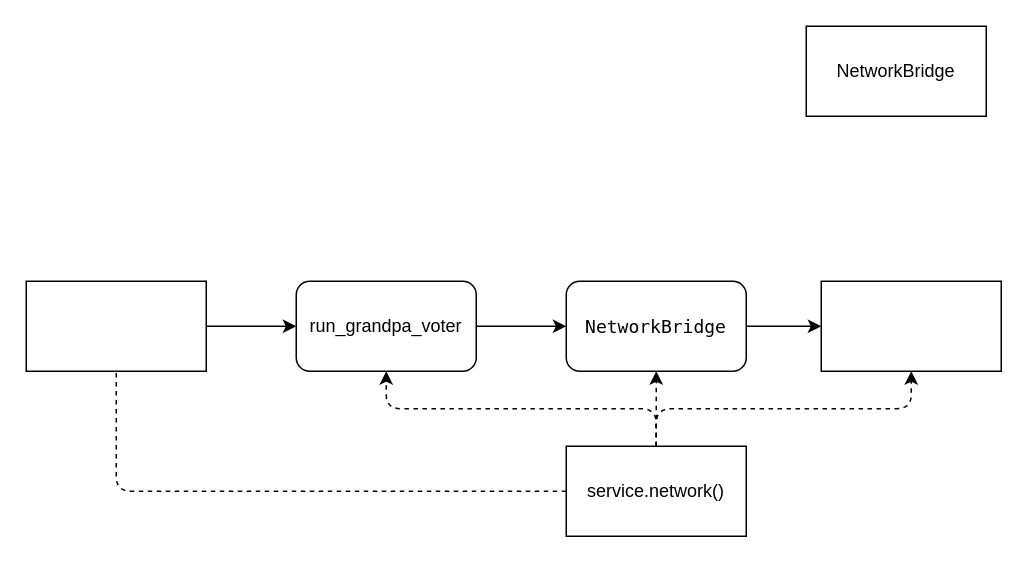
The diagram is 1028 pixels wide and 563 high, and some of its shapes have lost their labels. The box of each missing label's shape, as (x1, y1, x2, y2) in pixels:
gossipEngine: (820, 280, 1001, 371)
Service: (25, 280, 206, 371)
